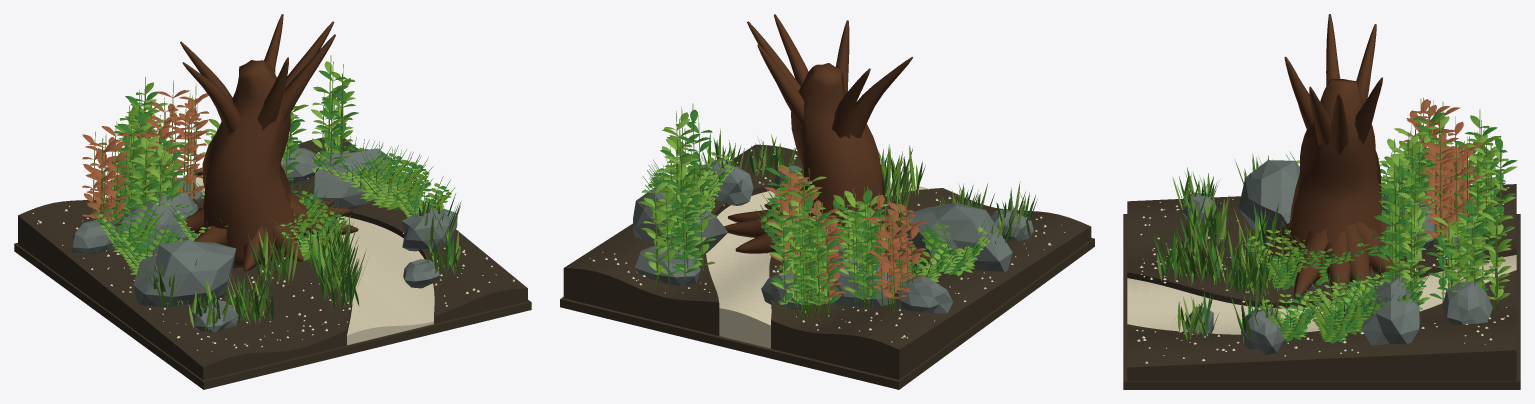
File: hardscape.glb
3 views of the same model, side by side, from view 1: azimuth 30°, elevation 25°; view 2: azimuth 150°, elevation 25°; view 3: azimuth 270°, elevation 25° (orthographic). The views are drawn at different scales.
Visible parts, largest first — view 1: bed.left, hardscape.wood.stump, bed.path, bed.right, bed.foundation, hardscape.stone.00, plants.stem.015, plants.stem.020, plants.stem.027, hardscape.stone.04, plants.stem.009, hardscape.stone.01 (+34 smaller); view 2: bed.left, hardscape.wood.stump, bed.right, bed.path, bed.foundation, hardscape.stone.00, plants.stem.015, plants.stem.039, plants.stem.016, plants.stem.022, plants.stem.027, plants.stem.047 (+21 smaller); view 3: bed.right, hardscape.wood.stump, bed.left, bed.foundation, bed.path, plants.stem.027, plants.stem.020, hardscape.stone.00, plants.stem.039, hardscape.stone.04, plants.stem.016, plants.stem.049 (+34 smaller).
Part boxes in pixels (x1,y1,x2,y2): bed.left: (18, 195, 352, 380); hardscape.wood.stump: (180, 14, 358, 271); bed.path: (179, 176, 434, 345); bed.right: (194, 138, 527, 323); bed.foundation: (14, 243, 531, 389); hardscape.stone.00: (133, 240, 236, 307); plants.stem.015: (82, 121, 129, 226); plants.stem.020: (148, 80, 208, 202); plants.stem.027: (311, 55, 358, 172); hardscape.stone.04: (312, 148, 392, 208); plants.stem.009: (112, 116, 169, 219); hardscape.stone.01: (120, 192, 198, 251); bed.left: (769, 188, 1091, 379); hardscape.wood.stump: (724, 14, 932, 263); bed.right: (563, 144, 802, 335); bed.path: (706, 183, 929, 348); bed.foundation: (560, 238, 1094, 389); hardscape.stone.00: (896, 203, 1012, 272); plants.stem.015: (864, 192, 927, 312); plants.stem.039: (638, 174, 701, 288); plants.stem.016: (766, 180, 824, 319); plants.stem.022: (781, 208, 840, 320); plants.stem.027: (656, 103, 712, 230); plants.stem.047: (838, 216, 886, 310); bed.right: (1127, 270, 1516, 380); hardscape.wood.stump: (1264, 14, 1410, 302); bed.left: (1127, 184, 1516, 308); bed.foundation: (1123, 214, 1520, 389); bed.path: (1127, 255, 1516, 334); plants.stem.027: (1373, 176, 1432, 309); plants.stem.020: (1420, 116, 1483, 256); hardscape.stone.00: (1238, 160, 1299, 244); plants.stem.039: (1455, 200, 1513, 313); hardscape.stone.04: (1362, 275, 1420, 345); plants.stem.016: (1462, 109, 1517, 243); plants.stem.049: (1426, 212, 1491, 309).
Size of the model in its own units: 0.441 by 0.304 by 0.441.
